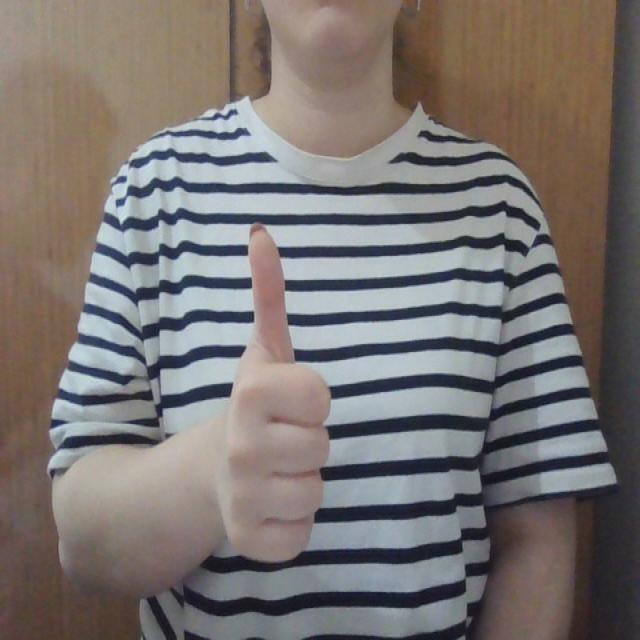Tamam: (211, 210, 344, 576)
